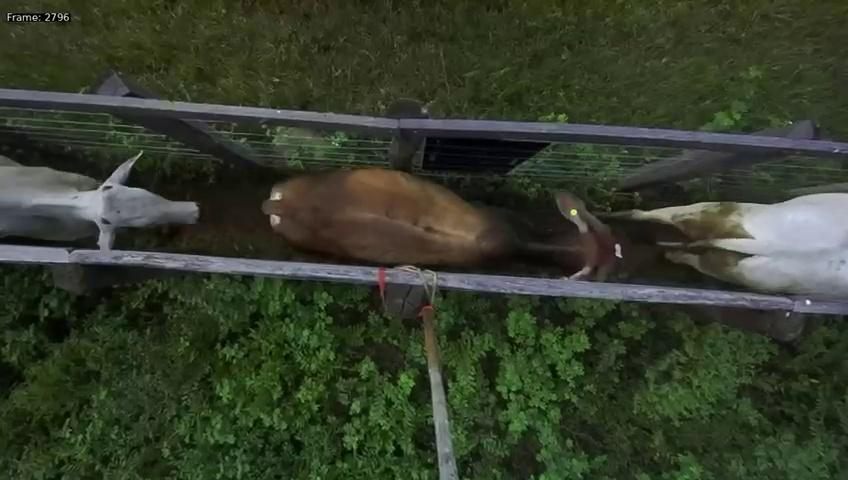cattle: (258, 161, 637, 291)
